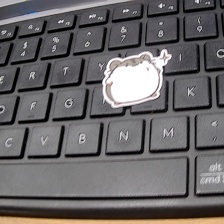mouse: (98, 46, 173, 109)
